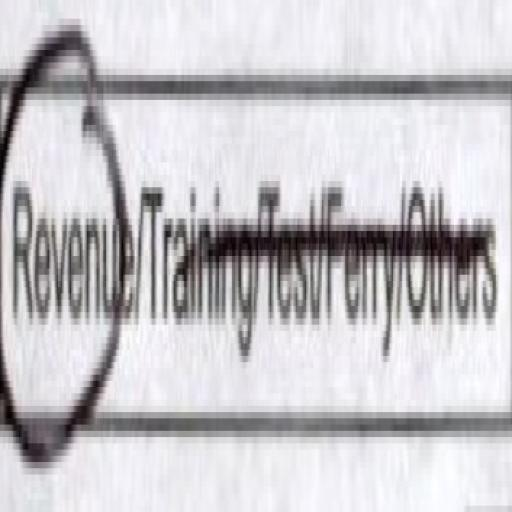check: (0, 0, 134, 476)
